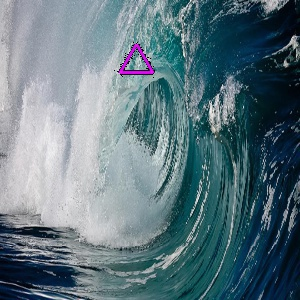triangle: (114, 38, 156, 78)
